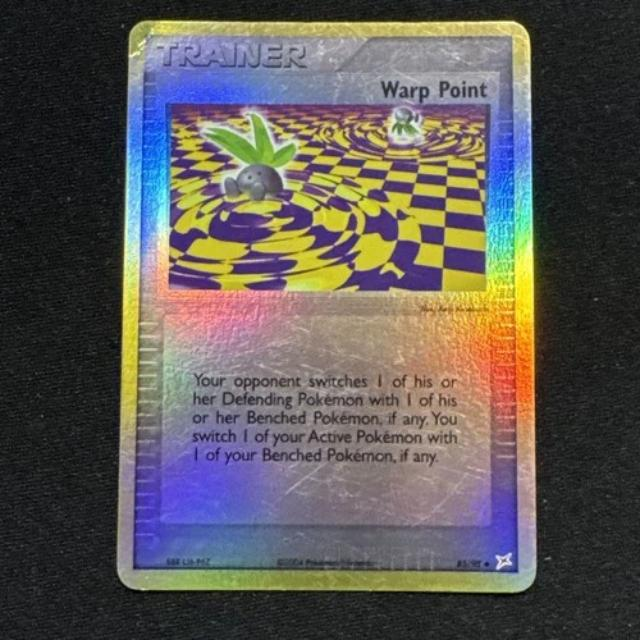Card: (111, 14, 544, 599)
Name: (374, 72, 496, 104)
